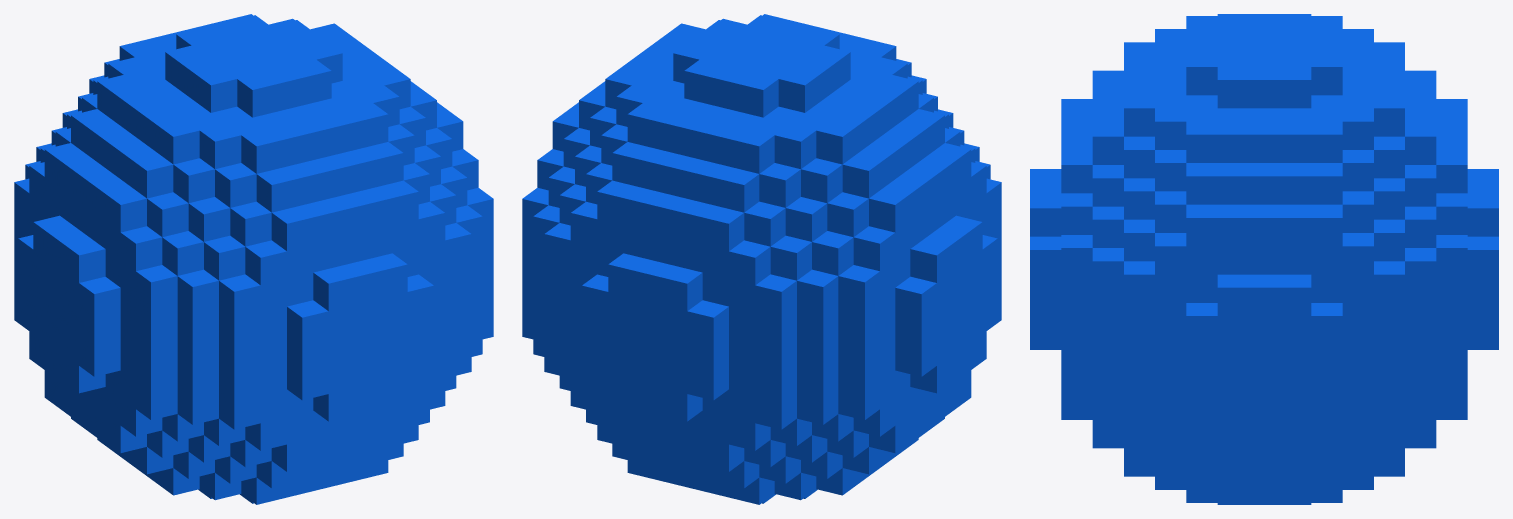
The model's file is Blue Ball.fbx.
3 views of the same model, side by side, from view 1: azimuth 30°, elevation 25°; view 2: azimuth 150°, elevation 25°; view 3: azimuth 270°, elevation 25° (orthographic). The views are drawn at different scales.
Visible parts, largest first — view 1: Untitled.001; view 2: Untitled.001; view 3: Untitled.001.
Part boxes in pixels (x1,y1,x2,y2): Untitled.001: (14,14,493,504); Untitled.001: (522,14,1001,504); Untitled.001: (1030,14,1498,504).
Size of the model in its own units: 150 by 150 by 150.
